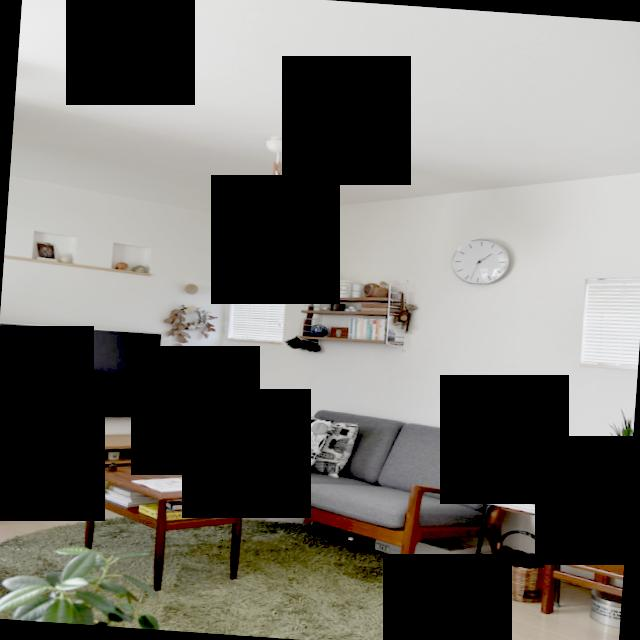vintage desk: (59, 456, 252, 599)
vintage sofa: (201, 397, 526, 600)
